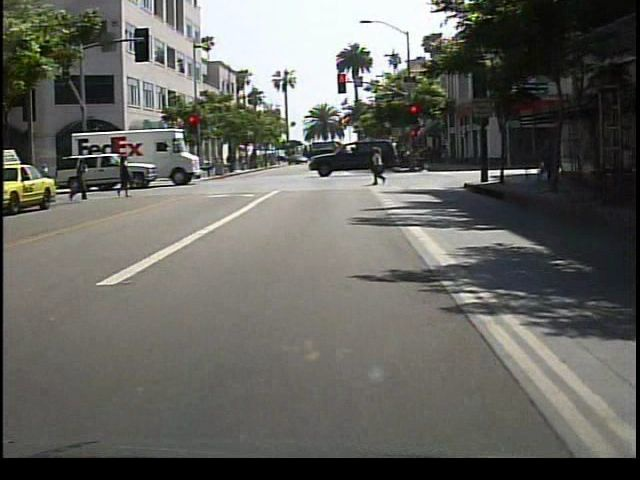person: (537, 135, 564, 190), (70, 157, 92, 207), (113, 153, 134, 201), (369, 145, 392, 187)
